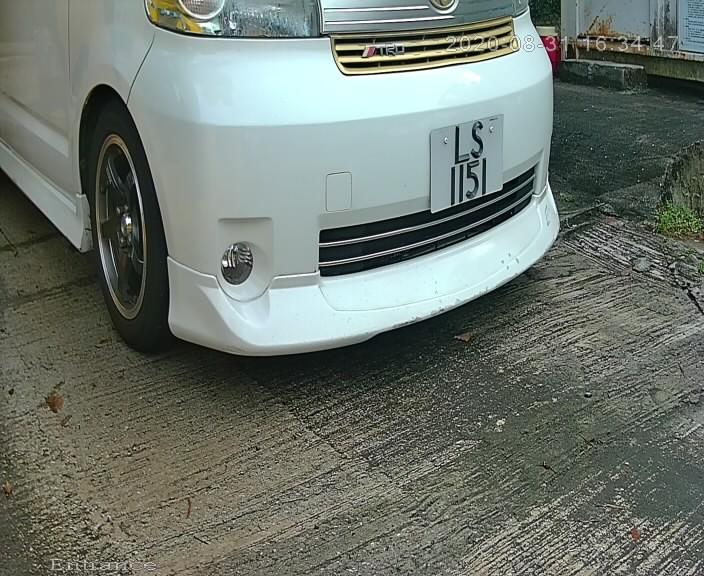License Plate: (422, 93, 510, 227)
